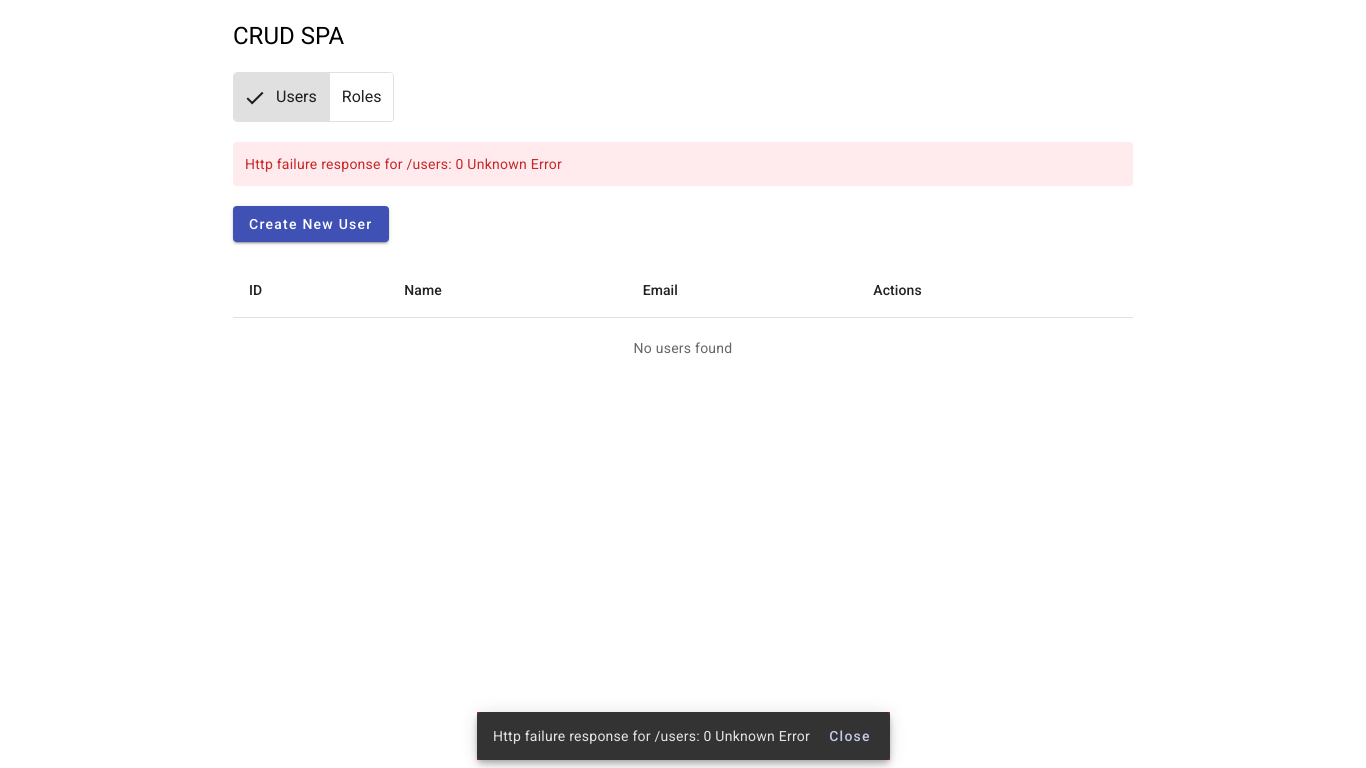
Test case: Role CRUD SPA › US3: Create Role › should open create dialog when clicking Create New Role
Click the button "Roles": coordinates (362, 97) [329, 73, 394, 121]
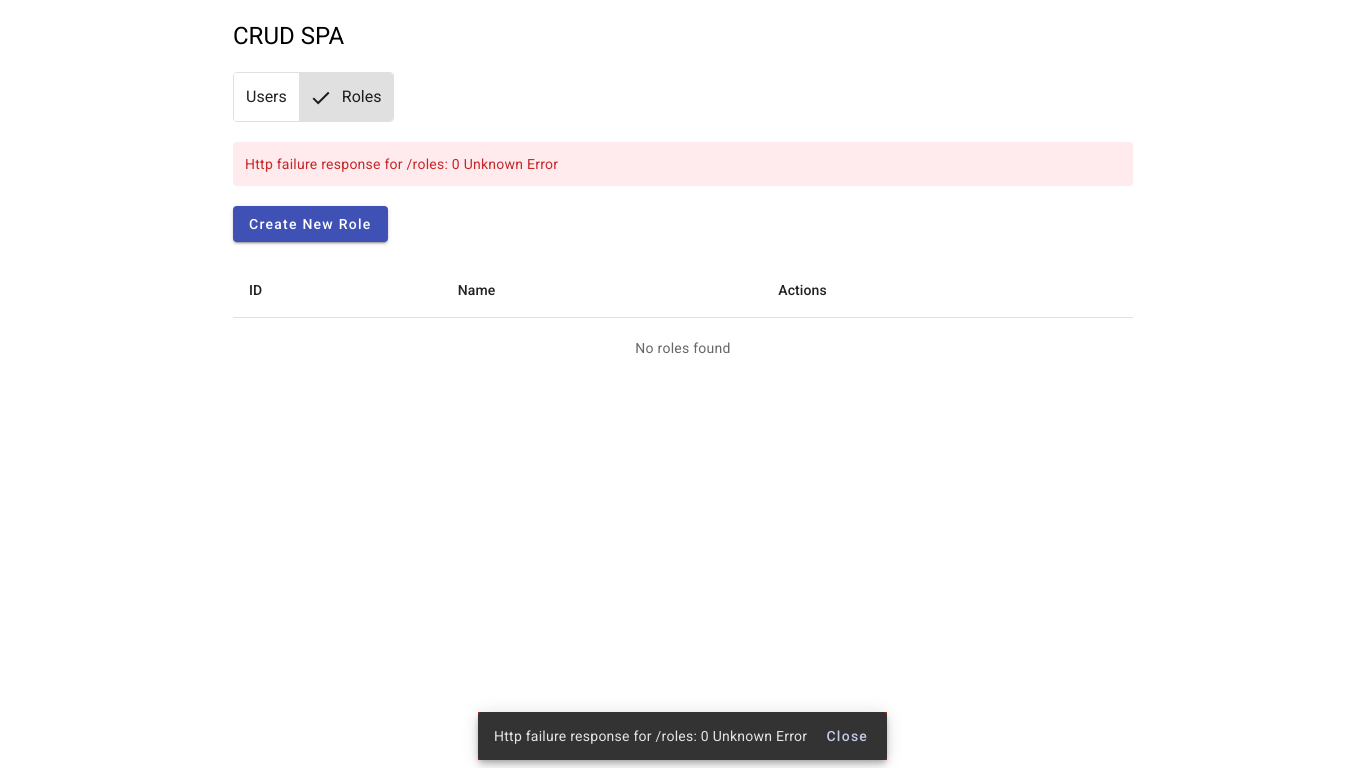
Click the button "Create New Role": coordinates (311, 224) [233, 206, 388, 242]
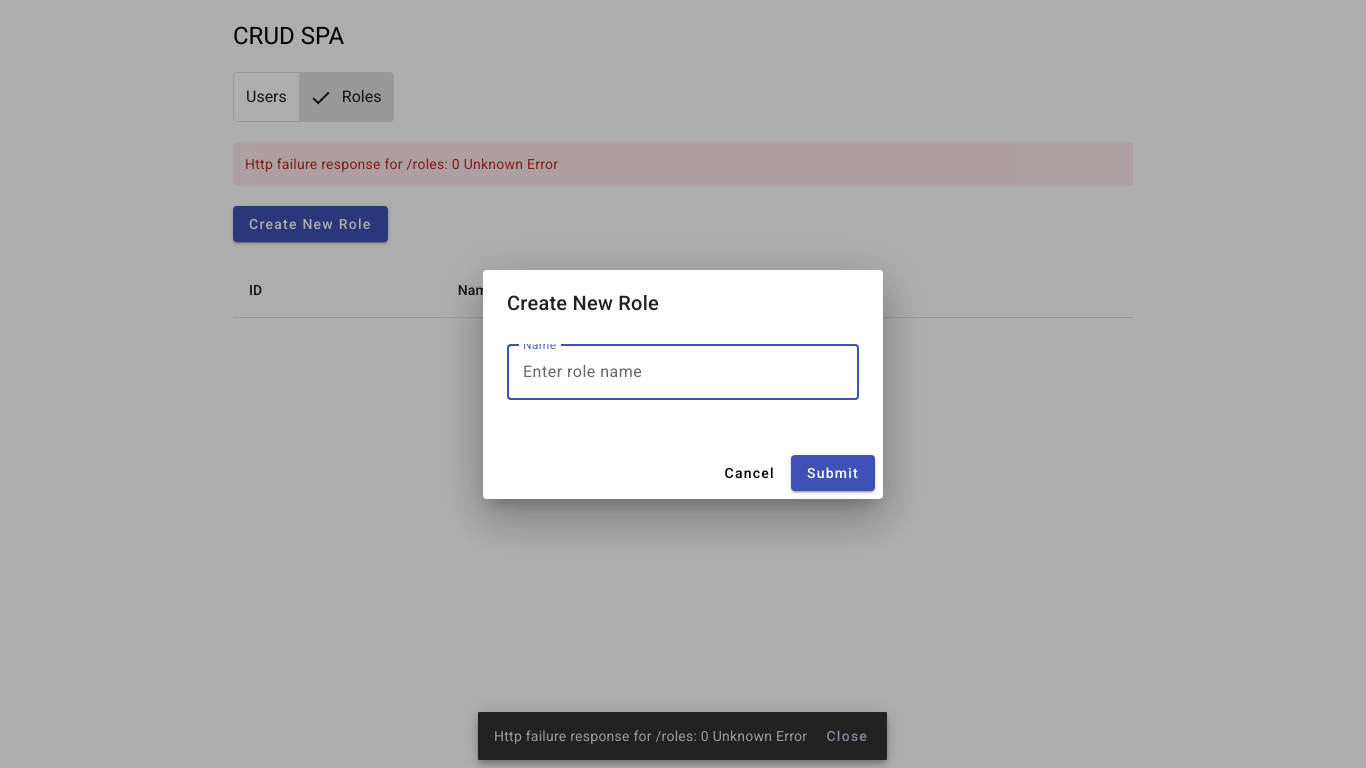
Expected: the field named "roleName" is shown, [523, 360, 843, 384]
